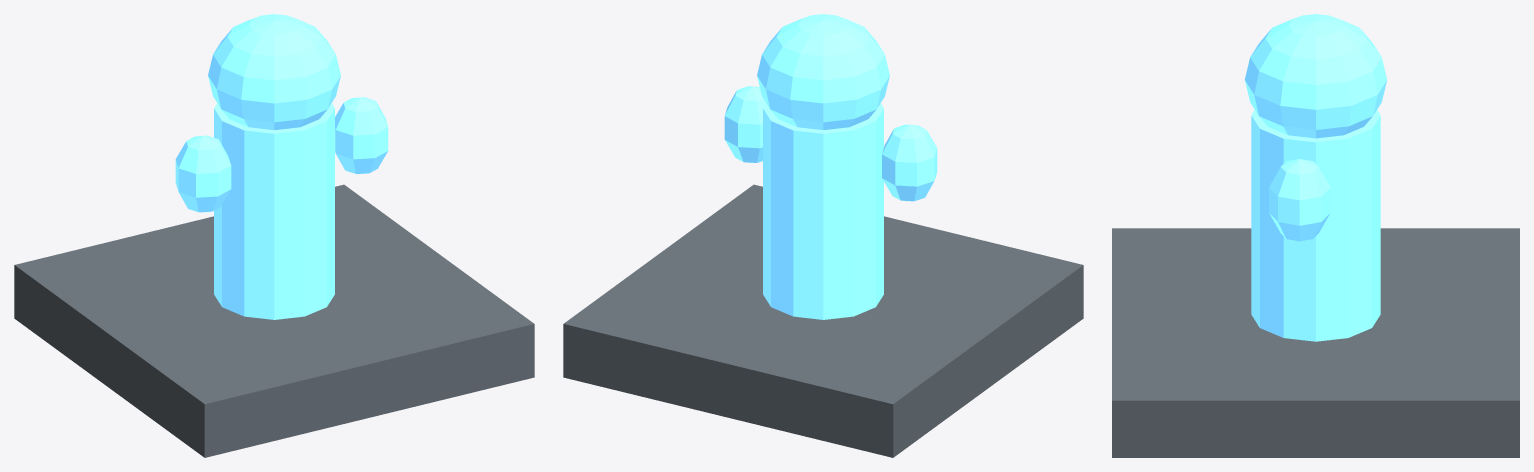
The model's file is elf_water_elemental.glb.
The picture shows the model from 3 angles, left to right: view 1: azimuth 30°, elevation 25°; view 2: azimuth 150°, elevation 25°; view 3: azimuth 270°, elevation 25°; orthographic projection. The views are drawn at different scales.
Visible parts, largest first — view 1: elf_water_elementalMesh, BodyGlow; view 2: elf_water_elementalMesh, BodyGlow; view 3: elf_water_elementalMesh, BodyGlow.
Part boxes in pixels (x1,y1,x2,y2): elf_water_elementalMesh: (14, 184, 534, 457); BodyGlow: (175, 14, 388, 319); elf_water_elementalMesh: (563, 184, 1083, 457); BodyGlow: (724, 14, 937, 319); elf_water_elementalMesh: (1112, 228, 1519, 457); BodyGlow: (1244, 14, 1387, 341).
Bounding box in the file's own units: 1.8 × 1.71 × 1.8.
